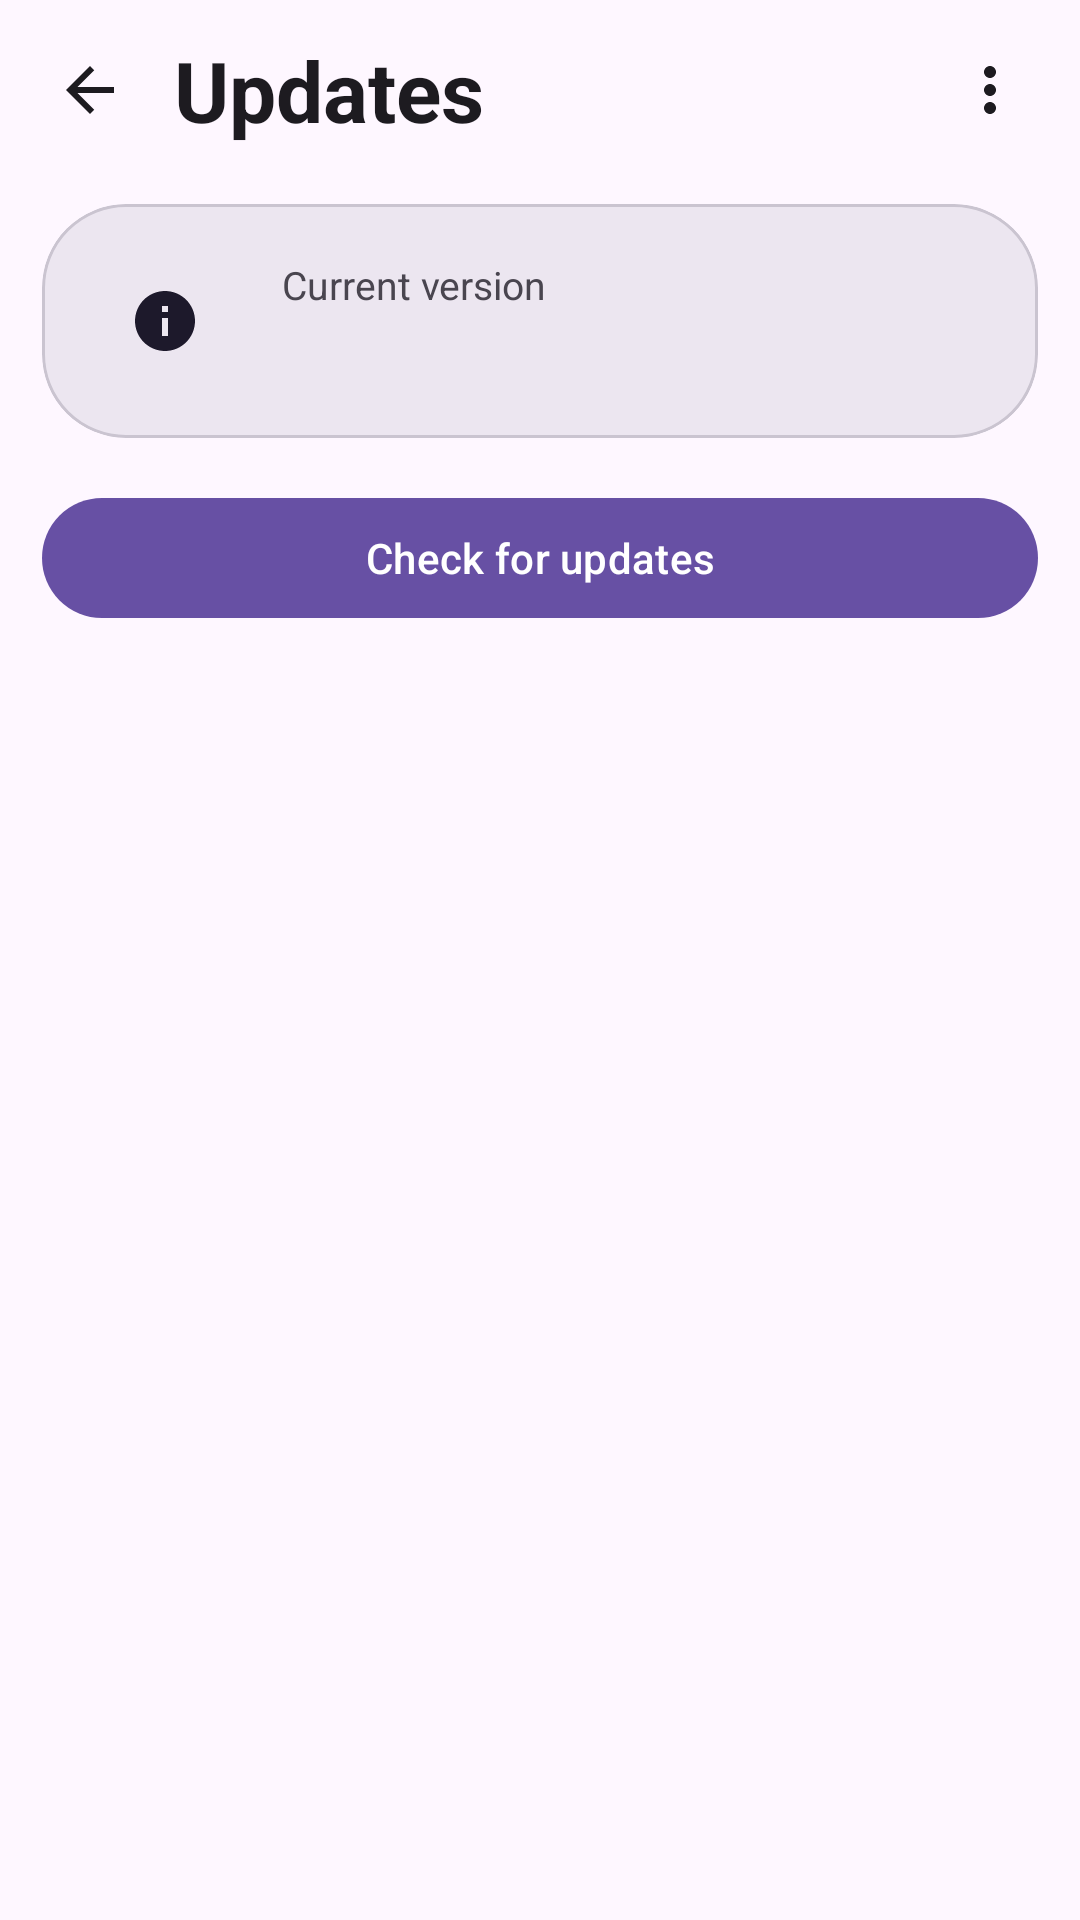

Screen size 1080x1920. Icon name, then its box in pixels as {"x1": x1, "y1": y1, "x2": x2, "y2": y2}:
info: {"x1": 135, "y1": 291, "x2": 195, "y2": 351}
Update options: {"x1": 984, "y1": 66, "x2": 996, "y2": 114}
